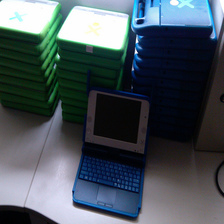laptop: (65, 74, 158, 214)
